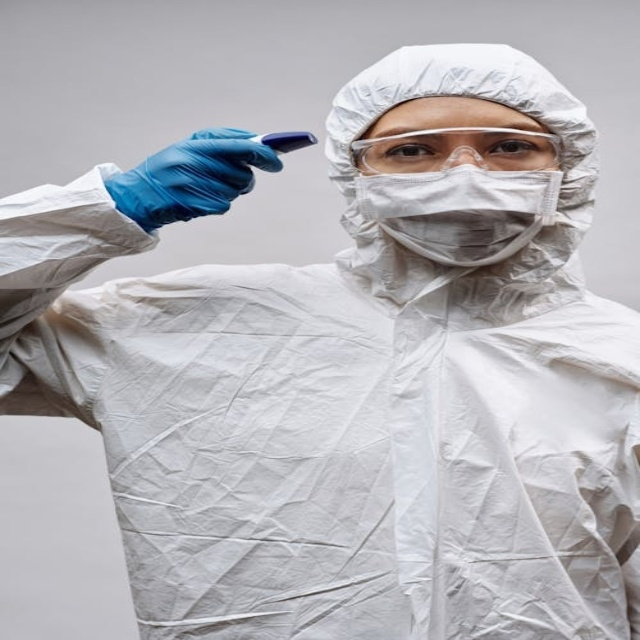Gafas: (346, 127, 564, 176)
Guantes: (104, 127, 288, 235)
Mascara: (354, 160, 566, 271)
